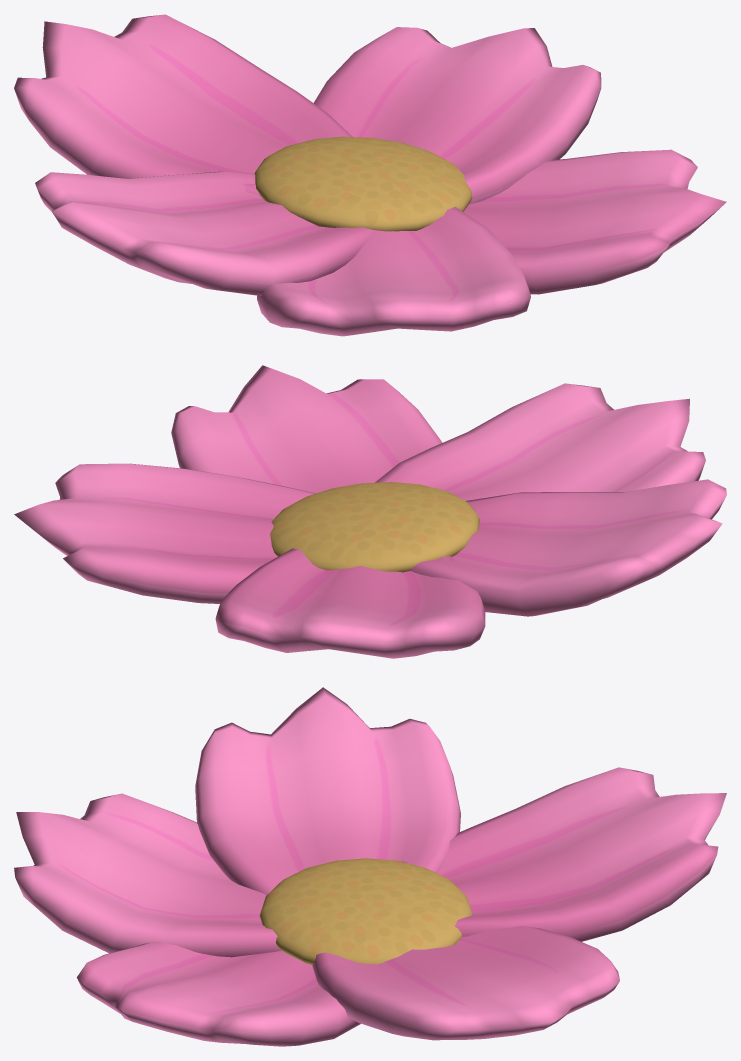
Rendered from flower floating platform.fbx.
3 renders of one model, top to bottom at view 1: azimuth 30°, elevation 25°; view 2: azimuth 150°, elevation 25°; view 3: azimuth 270°, elevation 25°, orthographic. The views are drawn at different scales.
Parts seen in each view (by area): view 1: polySurface7; view 2: polySurface7; view 3: polySurface7.
Boxes of the visible parts, x1=… form: polySurface7: x1=14, y1=14, x2=726, y2=336; polySurface7: x1=14, y1=365, x2=726, y2=658; polySurface7: x1=14, y1=687, x2=726, y2=1046.
Size of the model in its own units: 13.47 by 2.68 by 14.02.
